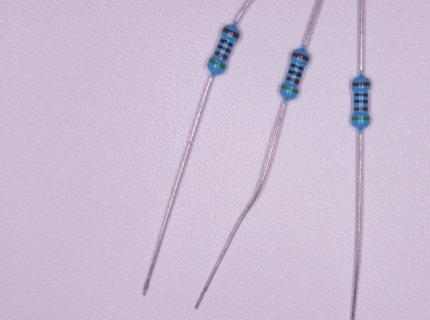Black band: (287, 69, 302, 78), (217, 44, 231, 53), (290, 63, 304, 71), (220, 39, 233, 47), (354, 93, 368, 97), (354, 100, 368, 103)
Brown band: (222, 27, 239, 39), (292, 52, 309, 63), (214, 50, 228, 60), (286, 76, 300, 85), (353, 82, 370, 86), (353, 107, 368, 111)
Green band: (208, 58, 227, 69), (281, 85, 299, 94), (352, 116, 370, 121)
